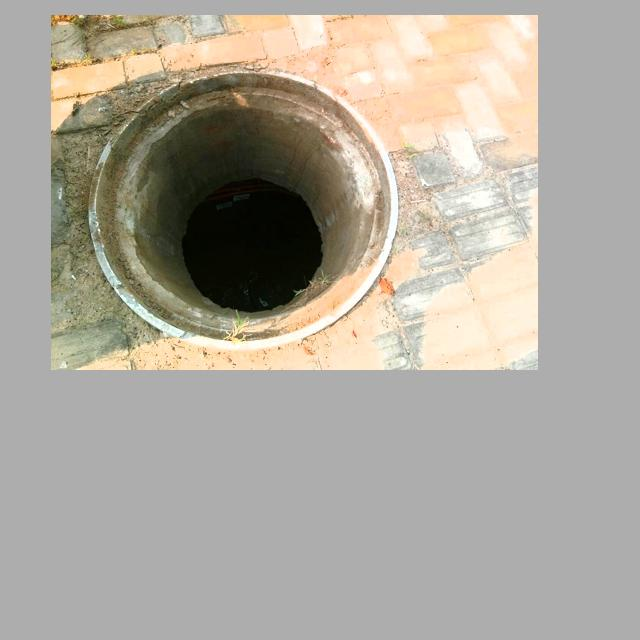lose: (89, 69, 398, 349)
